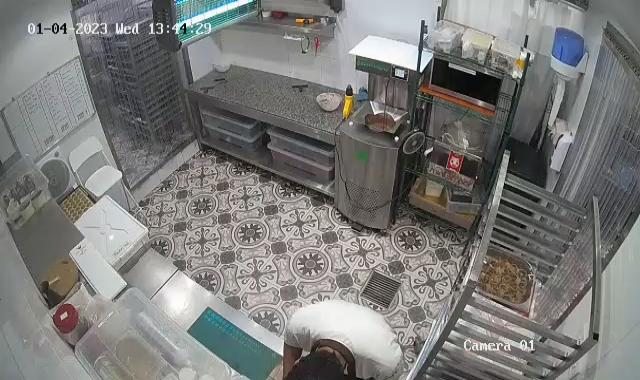no_hairnet: (288, 345, 349, 380)
